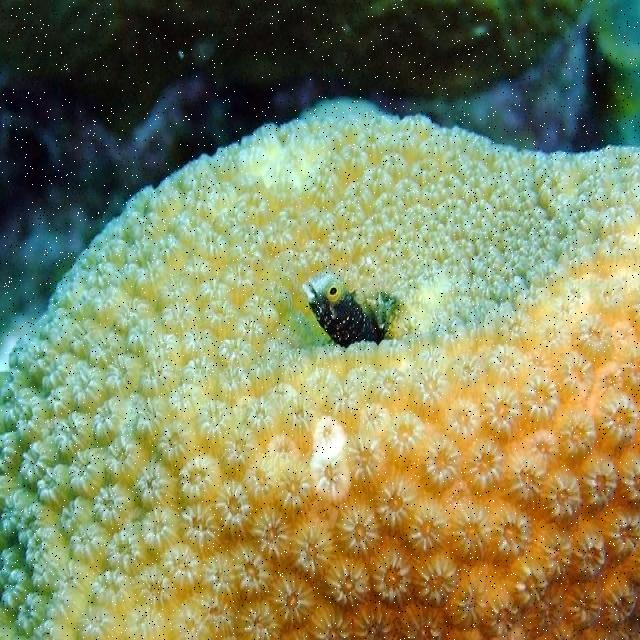fish: (300, 272, 396, 348)
reefs: (0, 112, 639, 639)
